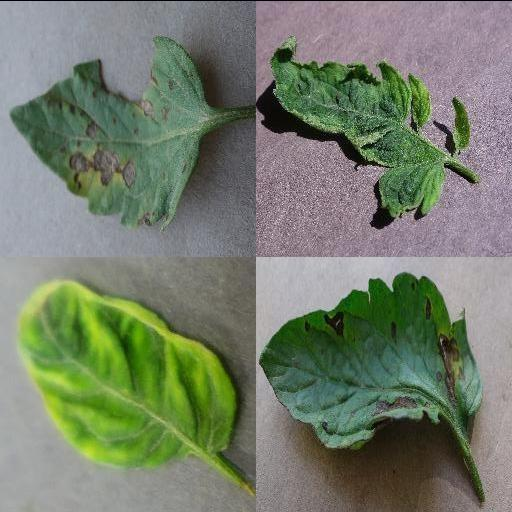Early Blight: (258, 270, 484, 451), (9, 35, 213, 227)
Mosaic Virus: (269, 32, 471, 218)
Yellow Leaf Curl Virus: (15, 277, 239, 467)
